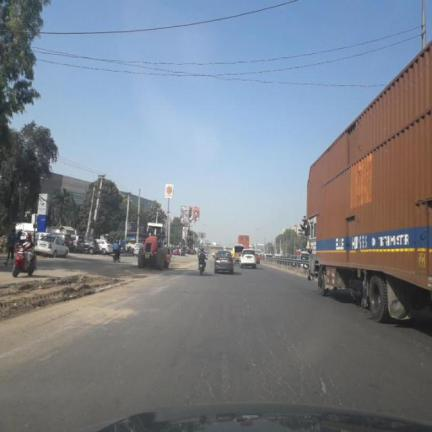Road: (0, 260, 431, 430)
